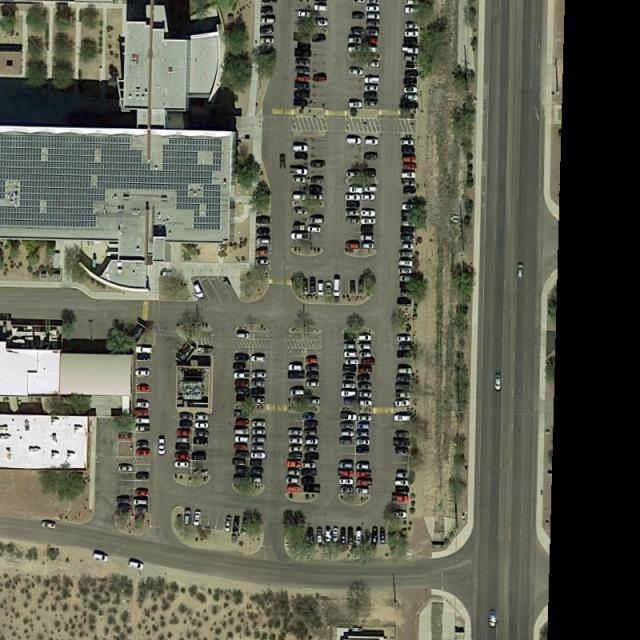vehicle: (194, 282, 207, 301), (289, 168, 309, 178), (340, 412, 358, 422), (127, 562, 147, 571), (316, 280, 326, 298), (391, 438, 413, 446), (494, 374, 503, 393), (394, 414, 413, 423), (395, 382, 414, 391), (403, 6, 422, 15), (395, 431, 412, 441), (324, 281, 334, 298), (300, 279, 310, 296), (402, 46, 419, 56), (137, 345, 155, 354), (241, 518, 250, 536), (401, 211, 419, 220), (396, 334, 414, 343), (302, 485, 322, 493), (358, 342, 374, 352), (287, 363, 307, 371), (251, 380, 267, 390), (193, 510, 203, 526), (366, 12, 382, 22), (402, 186, 418, 196), (289, 371, 306, 380), (289, 388, 306, 397), (225, 516, 234, 533), (395, 390, 412, 399), (355, 470, 374, 478), (303, 398, 322, 406), (233, 515, 241, 534), (334, 279, 342, 298), (291, 234, 310, 242), (248, 467, 263, 477), (356, 280, 366, 295), (260, 36, 275, 46), (392, 494, 410, 502), (339, 470, 357, 478), (303, 438, 321, 446), (158, 438, 167, 454), (175, 450, 191, 459), (286, 437, 304, 445), (234, 466, 250, 475), (358, 399, 374, 408), (395, 447, 411, 456), (231, 458, 249, 466), (233, 371, 251, 379), (41, 521, 57, 530), (294, 98, 310, 107), (362, 169, 378, 178), (398, 250, 414, 259), (398, 233, 416, 241), (255, 237, 271, 246), (255, 216, 271, 225), (260, 18, 278, 26), (402, 155, 418, 164), (362, 85, 380, 93), (404, 22, 420, 31), (338, 486, 355, 494), (338, 462, 355, 470), (286, 462, 303, 470), (391, 511, 408, 519), (339, 422, 356, 430), (340, 390, 357, 398), (234, 436, 251, 444), (250, 387, 267, 395), (234, 354, 251, 362), (233, 362, 250, 370), (489, 610, 497, 627), (292, 145, 309, 153), (396, 374, 413, 382), (517, 263, 525, 280), (294, 49, 311, 57), (401, 147, 418, 155), (362, 92, 379, 100), (119, 431, 134, 440), (306, 364, 321, 373), (351, 10, 366, 19), (346, 170, 361, 179), (403, 31, 422, 38), (134, 506, 150, 514), (306, 451, 322, 459), (286, 470, 302, 478), (289, 446, 305, 454), (136, 354, 152, 362), (174, 460, 190, 468), (340, 430, 356, 438), (361, 358, 377, 366), (358, 350, 374, 358), (358, 334, 374, 342), (344, 358, 360, 366), (342, 382, 358, 390), (251, 397, 267, 405), (235, 387, 251, 395), (134, 498, 150, 506), (356, 530, 364, 546), (316, 527, 324, 543), (94, 554, 110, 562), (346, 46, 362, 54), (278, 154, 286, 170), (360, 242, 376, 250), (346, 210, 362, 218), (345, 201, 361, 209), (346, 194, 362, 202), (362, 194, 378, 202), (348, 186, 364, 194), (363, 153, 379, 161), (398, 267, 414, 275), (400, 226, 416, 234), (259, 26, 275, 34), (296, 66, 312, 74), (403, 69, 419, 77), (250, 459, 264, 468), (331, 528, 340, 542), (294, 59, 312, 66), (400, 139, 418, 146), (358, 478, 373, 486), (339, 478, 354, 486), (357, 430, 372, 438), (339, 438, 354, 446), (358, 391, 373, 399), (356, 382, 371, 390), (343, 342, 358, 350), (344, 350, 359, 358), (252, 437, 267, 445), (252, 355, 267, 363), (183, 510, 191, 525), (348, 526, 354, 546), (395, 400, 410, 408), (346, 36, 361, 44), (346, 242, 361, 250), (292, 177, 307, 185), (398, 366, 413, 374), (257, 227, 272, 235), (308, 226, 323, 234), (313, 74, 328, 82), (356, 463, 373, 470), (194, 414, 211, 421), (174, 443, 191, 450), (250, 452, 267, 459), (251, 420, 268, 427), (234, 452, 251, 459), (306, 382, 323, 389), (371, 527, 378, 544), (346, 137, 363, 144), (291, 193, 308, 200), (401, 179, 418, 186), (401, 172, 418, 179), (402, 95, 419, 102), (394, 487, 410, 494), (286, 477, 302, 484), (302, 462, 316, 470), (117, 497, 131, 505), (118, 465, 134, 472), (137, 417, 151, 425), (134, 402, 150, 409), (194, 422, 210, 429), (177, 429, 193, 436), (355, 447, 371, 454), (358, 415, 374, 422), (359, 366, 373, 374), (252, 429, 268, 436), (251, 371, 267, 378), (235, 380, 251, 387), (380, 528, 387, 544), (326, 526, 333, 542), (366, 6, 382, 13), (350, 28, 366, 35), (365, 36, 379, 44), (361, 226, 375, 234), (362, 218, 378, 225), (361, 210, 377, 217), (398, 259, 414, 266), (400, 243, 416, 250), (310, 161, 326, 168), (255, 259, 271, 266), (310, 217, 324, 225), (310, 194, 324, 202), (401, 219, 415, 227), (260, 6, 274, 14), (402, 163, 418, 170), (363, 77, 379, 84), (349, 68, 363, 76), (294, 89, 312, 95), (310, 185, 322, 194), (355, 487, 370, 494), (304, 445, 319, 452), (179, 412, 194, 419), (135, 489, 150, 496), (135, 425, 150, 432), (137, 386, 152, 393), (135, 370, 150, 377), (289, 428, 304, 435), (251, 444, 266, 451), (306, 372, 321, 379), (366, 20, 381, 27), (363, 46, 378, 53), (296, 83, 311, 90), (294, 153, 309, 160), (346, 218, 361, 225), (364, 186, 379, 193), (364, 138, 379, 145), (255, 249, 270, 256), (313, 4, 328, 11), (347, 102, 362, 109), (403, 87, 418, 94), (403, 55, 418, 62), (306, 356, 319, 364), (398, 298, 411, 306), (401, 282, 414, 290), (315, 19, 328, 27), (303, 421, 320, 427), (308, 528, 314, 545), (402, 204, 419, 210), (118, 504, 132, 511), (343, 375, 357, 382), (236, 419, 250, 426), (298, 42, 312, 49), (302, 469, 318, 475), (178, 422, 194, 428), (194, 438, 210, 444), (174, 436, 190, 442), (235, 333, 251, 339), (234, 429, 250, 435), (359, 235, 375, 241), (310, 278, 316, 294), (294, 208, 310, 214), (294, 35, 310, 41), (402, 78, 418, 84), (358, 374, 371, 381), (402, 290, 415, 297), (311, 178, 324, 185), (286, 486, 301, 492), (395, 472, 410, 478), (304, 430, 319, 436), (288, 454, 303, 460), (134, 410, 149, 416), (357, 440, 372, 446), (357, 424, 372, 430), (234, 444, 249, 450), (399, 276, 414, 282), (313, 36, 328, 42), (301, 414, 318, 419), (246, 478, 263, 483), (193, 454, 207, 460), (366, 30, 380, 36), (297, 76, 311, 82), (364, 100, 378, 106), (394, 481, 410, 486), (302, 478, 318, 483), (406, 1, 422, 6), (137, 449, 150, 455), (345, 366, 358, 372), (350, 281, 356, 294), (297, 12, 310, 18), (368, 60, 379, 67), (342, 527, 346, 545), (398, 346, 412, 351), (137, 473, 150, 478), (194, 432, 209, 436), (137, 442, 150, 446), (352, 1, 366, 4), (366, 1, 380, 4), (262, 1, 277, 3), (298, 1, 313, 2), (314, 1, 326, 2)
